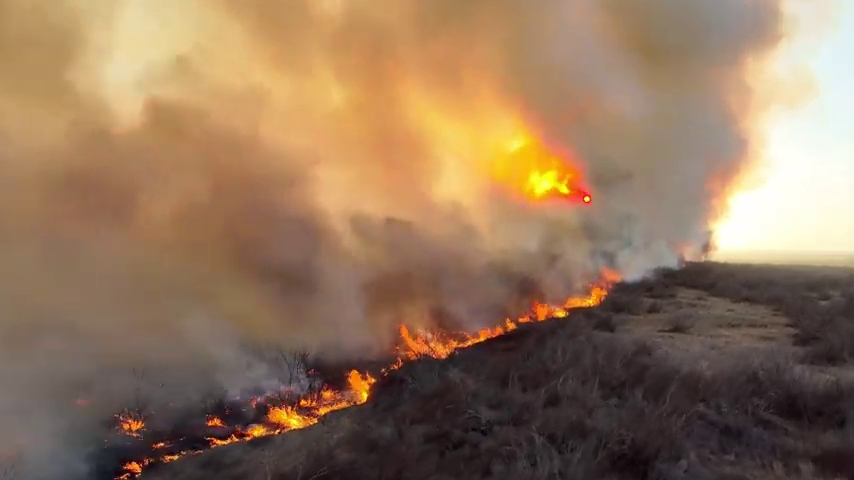forest_fire: (115, 370, 376, 479), (380, 278, 614, 372), (119, 415, 145, 437)
